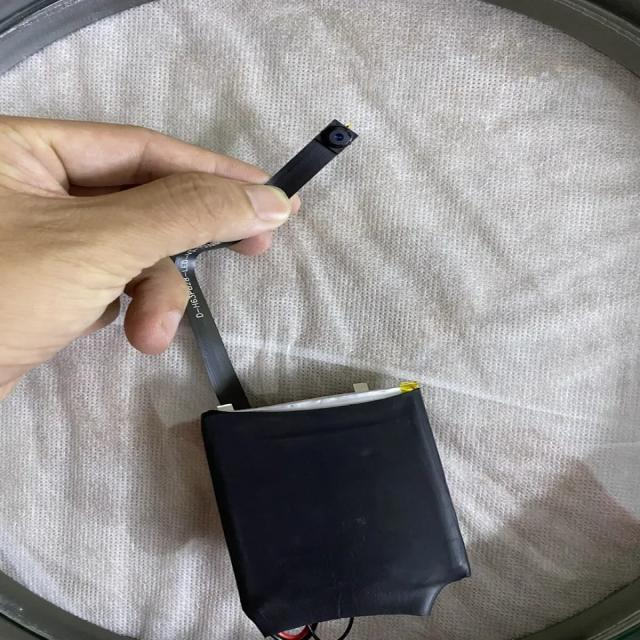hidden camera: (329, 129, 350, 146)
